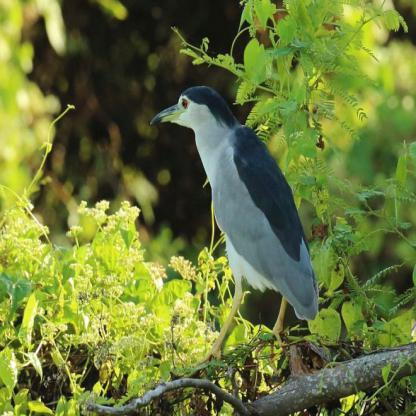Burung: (148, 88, 317, 362)
